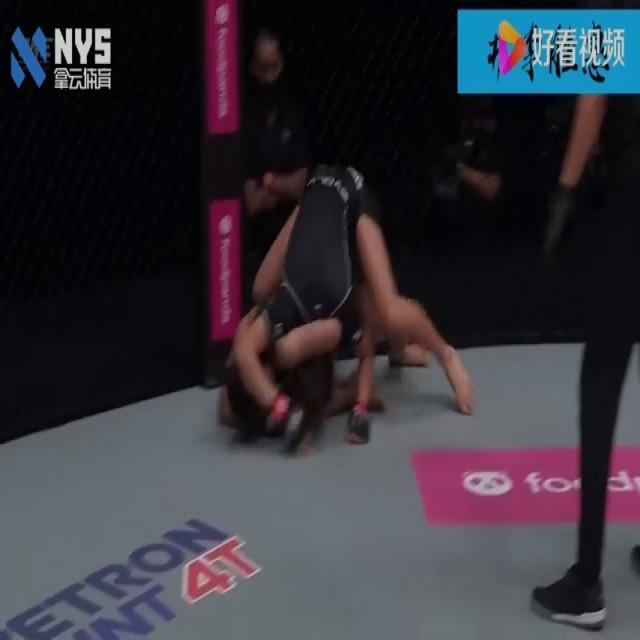fight: (178, 161, 476, 480)
non-fight: (523, 97, 639, 638)
